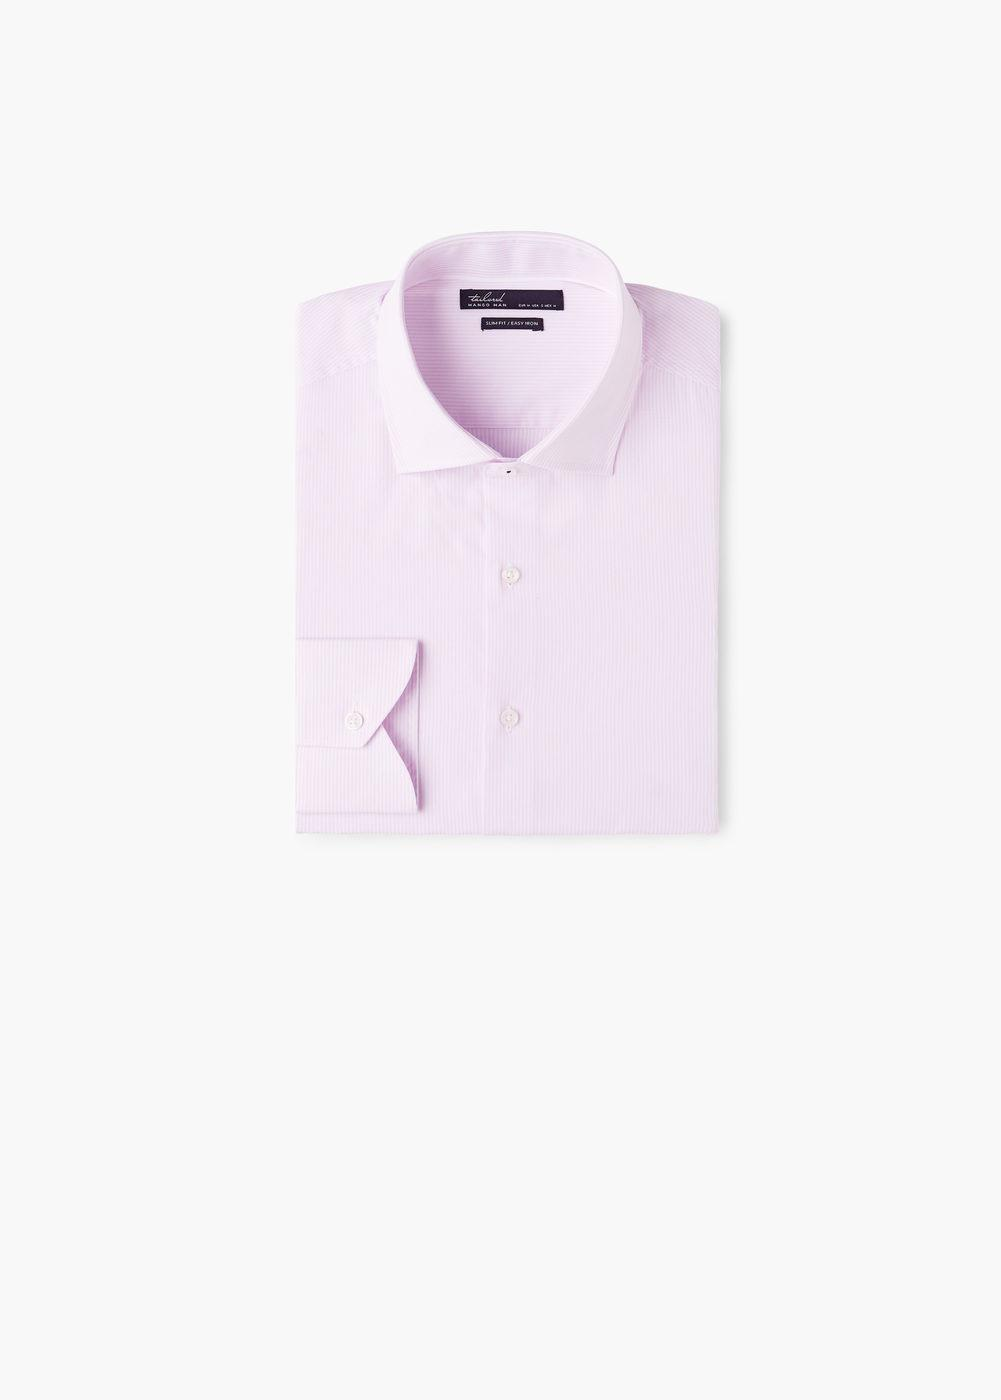teeshirt: (272, 218, 750, 872)
